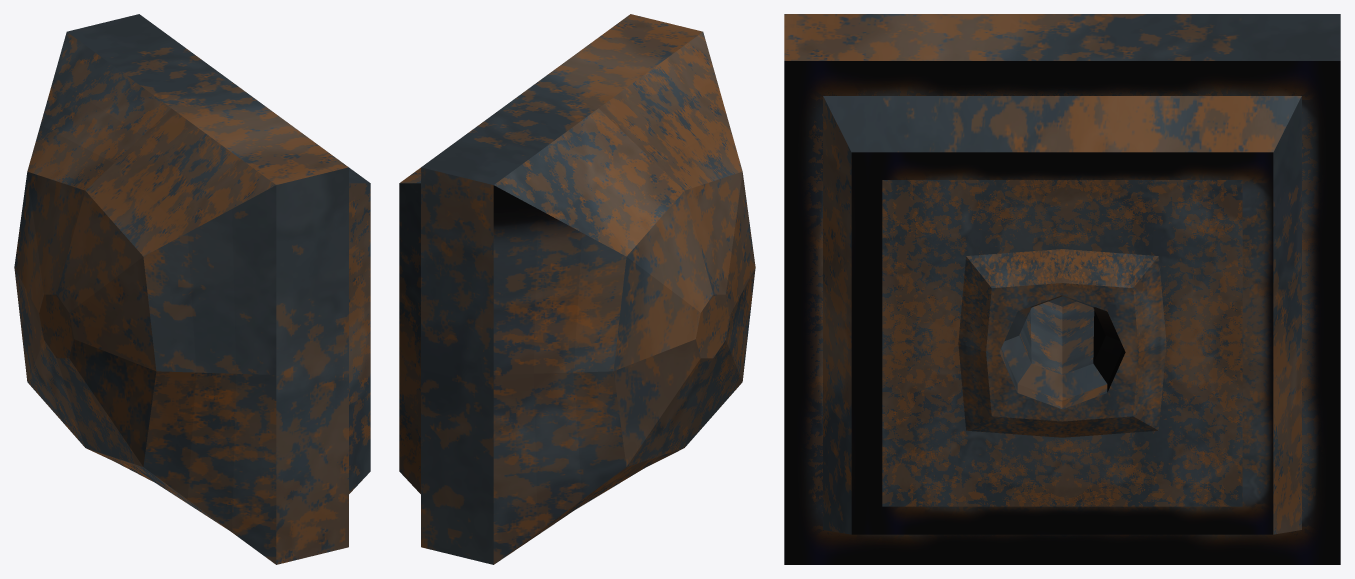
The model's file is SpikeLauncher_Prototype.fbx.
The picture shows the model from 3 angles, left to right: view 1: azimuth 30°, elevation 25°; view 2: azimuth 150°, elevation 25°; view 3: azimuth 270°, elevation 25°; orthographic projection. The views are drawn at different scales.
Parts seen in each view (by area): view 1: SpikeLauncher; view 2: SpikeLauncher; view 3: SpikeLauncher.
Part boxes in pixels (x1,y1,x2,y2): SpikeLauncher: (14, 14, 370, 564); SpikeLauncher: (399, 14, 755, 564); SpikeLauncher: (784, 14, 1340, 564).
Size of the model in its own units: 137 by 200 by 200.
Materials: 1 (1 with a texture image).
